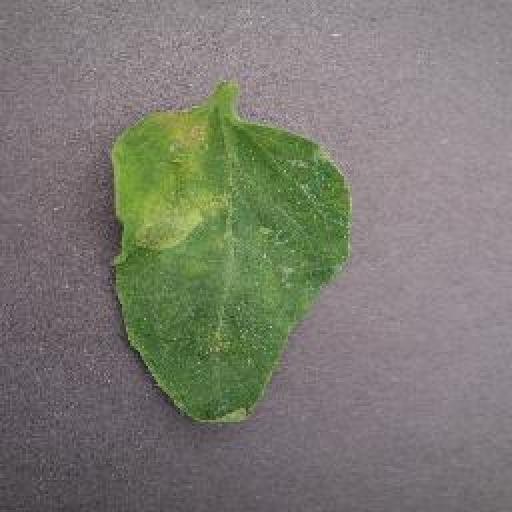disease_tomato: (101, 103, 356, 432)
